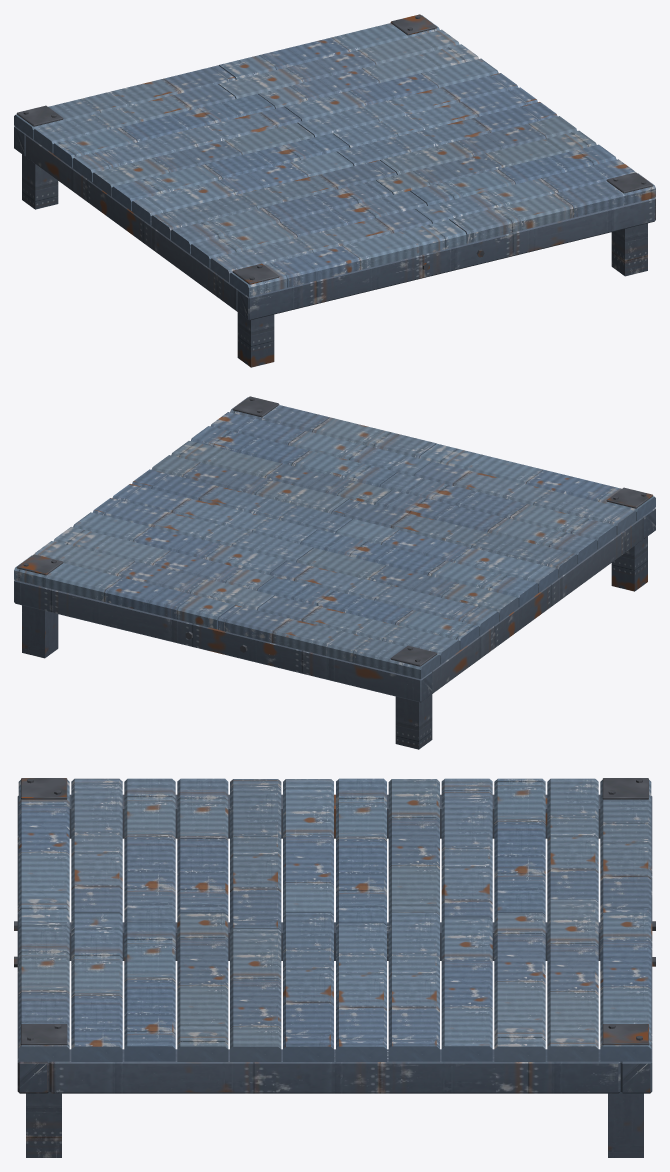
File: makine_platformu_orta.glb
The picture shows the model from 3 angles, top to bottom: view 1: azimuth 30°, elevation 25°; view 2: azimuth 150°, elevation 25°; view 3: azimuth 270°, elevation 25°; orthographic projection. The views are drawn at different scales.
Parts seen in each view (by area): view 1: makine_platformu_orta; view 2: makine_platformu_orta; view 3: makine_platformu_orta.
Boxes of the visible parts, bbox=[...] form: makine_platformu_orta: bbox=[14, 14, 655, 367]; makine_platformu_orta: bbox=[14, 396, 655, 749]; makine_platformu_orta: bbox=[14, 778, 655, 1157].
Size of the model in its own units: 6 by 1.24 by 6.07.
1 material, 1 textured.
